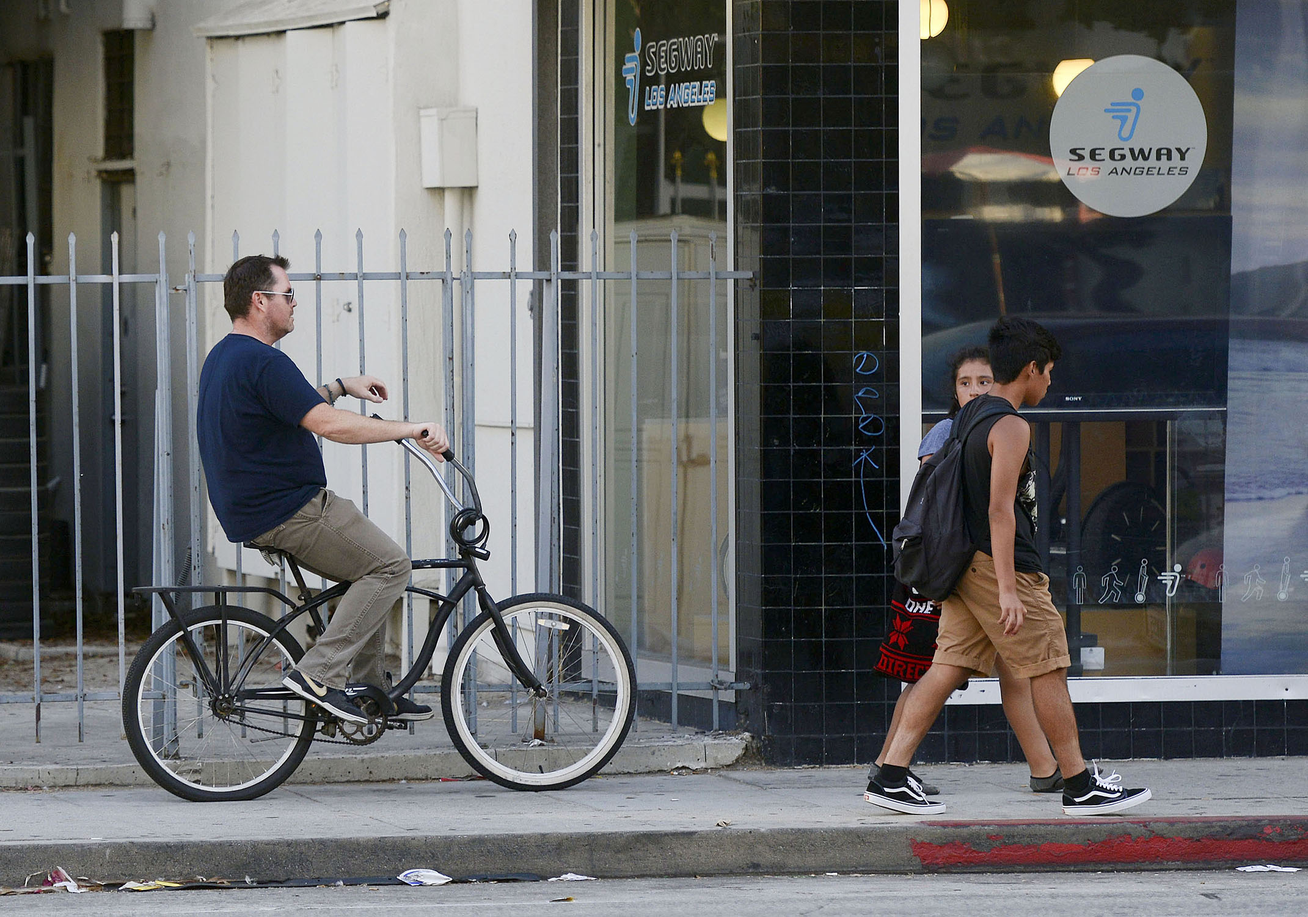Bicycle: (103, 551, 651, 785)
Person: (155, 242, 425, 738), (899, 333, 1133, 811)
